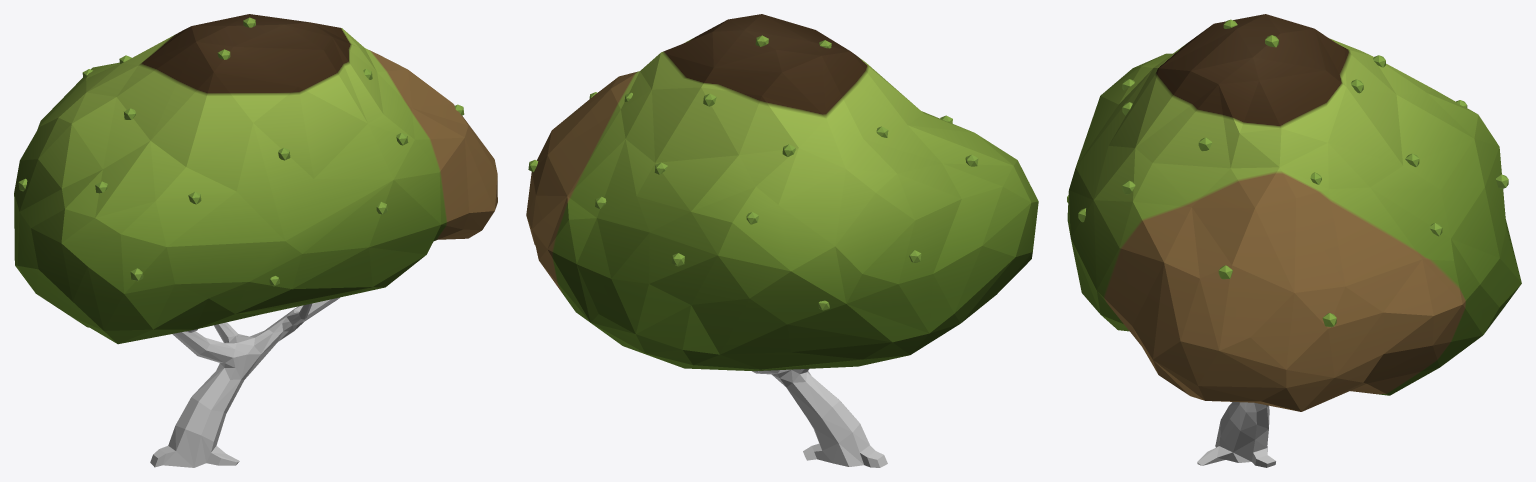
Rendered from Tree_04.fbx.
3 renders of one model, left to right at view 1: azimuth 30°, elevation 25°; view 2: azimuth 150°, elevation 25°; view 3: azimuth 270°, elevation 25°, orthographic. The views are drawn at different scales.
Parts seen in each view (by area): view 1: Tree_04; view 2: Tree_04; view 3: Tree_04.
Boxes of the visible parts, x1,y1,x2,y2 form: Tree_04: [14, 14, 497, 467]; Tree_04: [526, 14, 1038, 467]; Tree_04: [1067, 14, 1521, 467].
Size of the model in its own units: 6.5 by 5.62 by 5.09.
